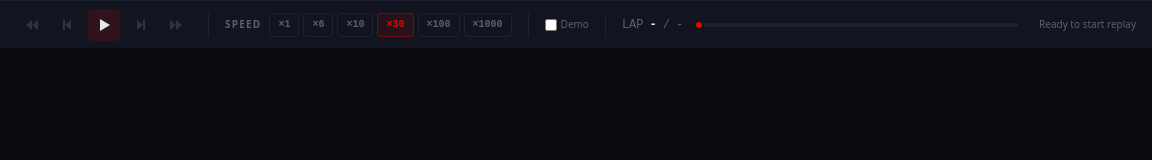
ReplayControls › shows error message when startReplay fails
Click the button named "Start replay" at (104, 24), box [88,8,120,40]
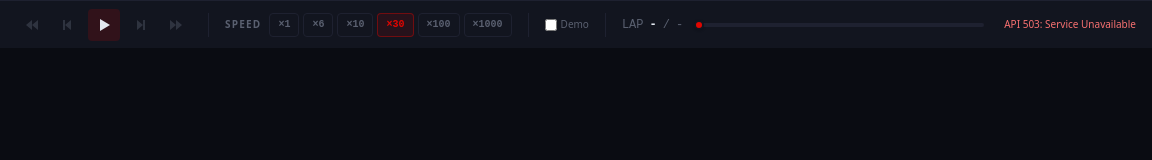
Expected: the text with test id "replay-error" reads "API 503: Service Unavailable", [1004,17,1136,31]
